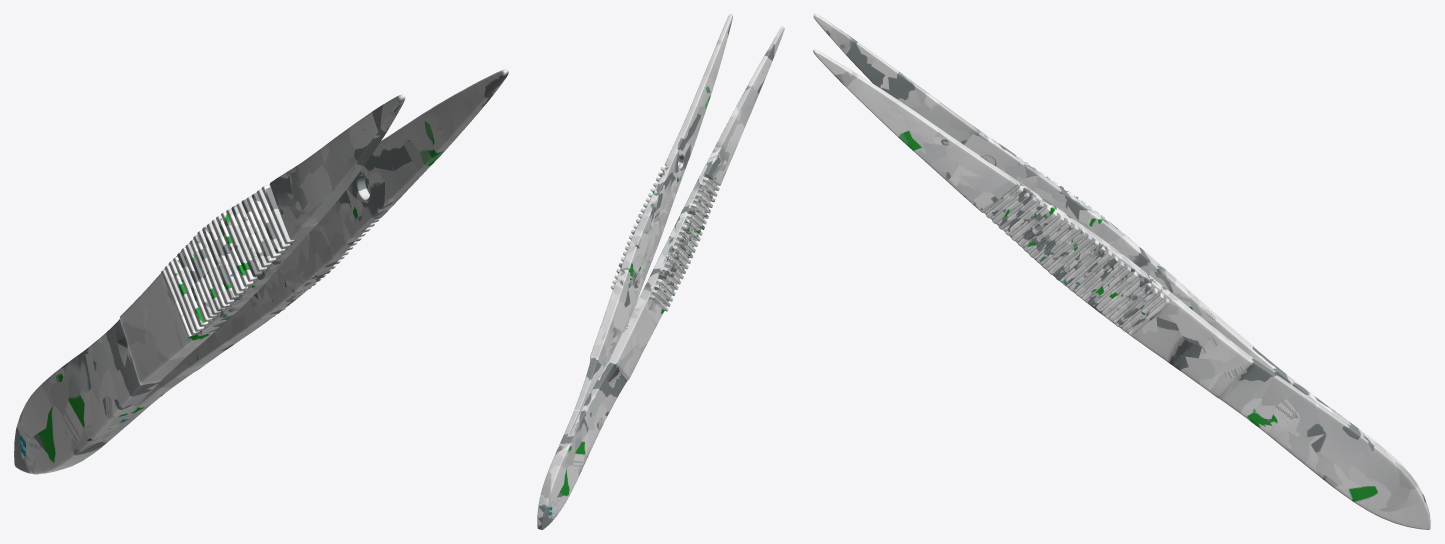
Rendered from Tweezers.fbx.
3 views of the same model, side by side, from view 1: azimuth 30°, elevation 25°; view 2: azimuth 150°, elevation 25°; view 3: azimuth 270°, elevation 25° (orthographic). The views are drawn at different scales.
Parts seen in each view (by area): view 1: Mesh_0; view 2: Mesh_0; view 3: Mesh_0.
Boxes of the visible parts, left/top/right/bottom form: Mesh_0: left=14, top=69, right=508, bottom=474; Mesh_0: left=537, top=14, right=784, bottom=529; Mesh_0: left=813, top=14, right=1430, bottom=529.
Bounding box in the file's own units: 27.85 × 169 × 190.
